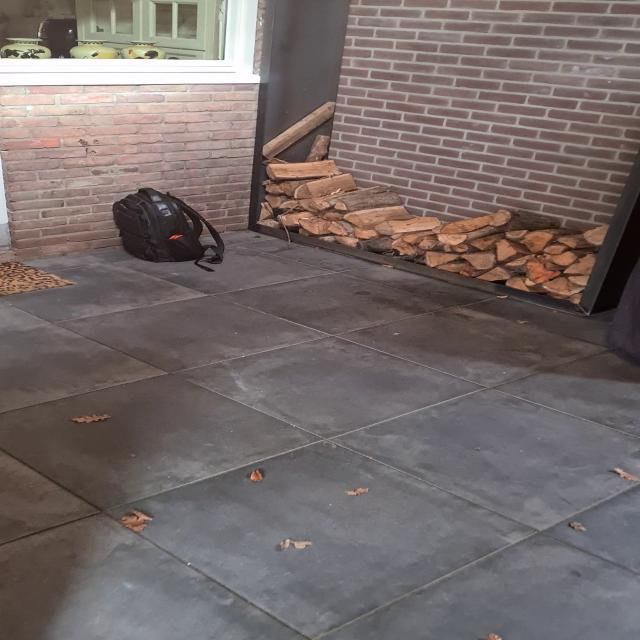backpack: (109, 186, 222, 266)
